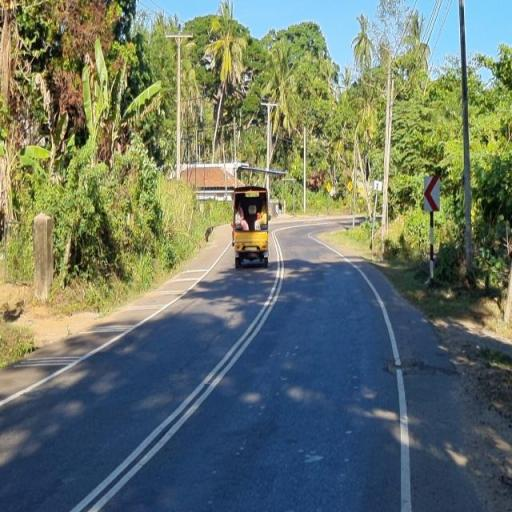double_white_line: (70, 230, 288, 512)
